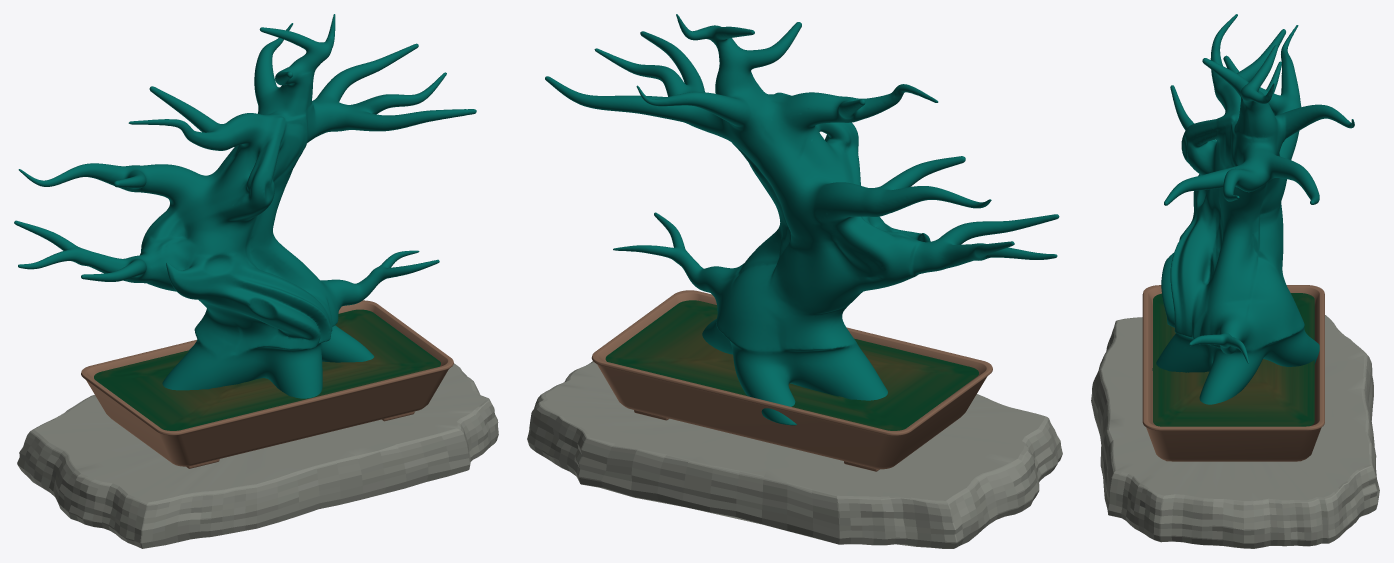
The model's file is local-b.glb.
3 renders of one model, left to right at view 1: azimuth 30°, elevation 25°; view 2: azimuth 150°, elevation 25°; view 3: azimuth 270°, elevation 25°, orthographic. The views are drawn at different scales.
Parts seen in each view (by area): view 1: Continuous aged trunk and primary branches, Low split natural bedding stone, Shallow unglazed pot, Continuous planted soil; view 2: Continuous aged trunk and primary branches, Low split natural bedding stone, Shallow unglazed pot, Continuous planted soil; view 3: Continuous aged trunk and primary branches, Low split natural bedding stone, Continuous planted soil, Shallow unglazed pot.
Boxes of the visible parts, box(x1,y1,x2,y2) form: Continuous aged trunk and primary branches: box(14, 14, 476, 398); Low split natural bedding stone: box(17, 363, 498, 548); Shallow unglazed pot: box(81, 300, 453, 466); Continuous planted soil: box(94, 309, 440, 430); Continuous aged trunk and primary branches: box(545, 14, 1059, 425); Low split natural bedding stone: box(527, 361, 1062, 548); Shallow unglazed pot: box(591, 290, 992, 469); Continuous planted soil: box(605, 300, 978, 430); Continuous aged trunk and primary branches: box(1152, 14, 1354, 404); Low split natural bedding stone: box(1091, 315, 1379, 548); Continuous planted soil: box(1153, 293, 1314, 426); Shallow unglazed pot: box(1142, 285, 1324, 461).
Bounding box in the file's own units: 2.48 × 2.15 × 1.36.
